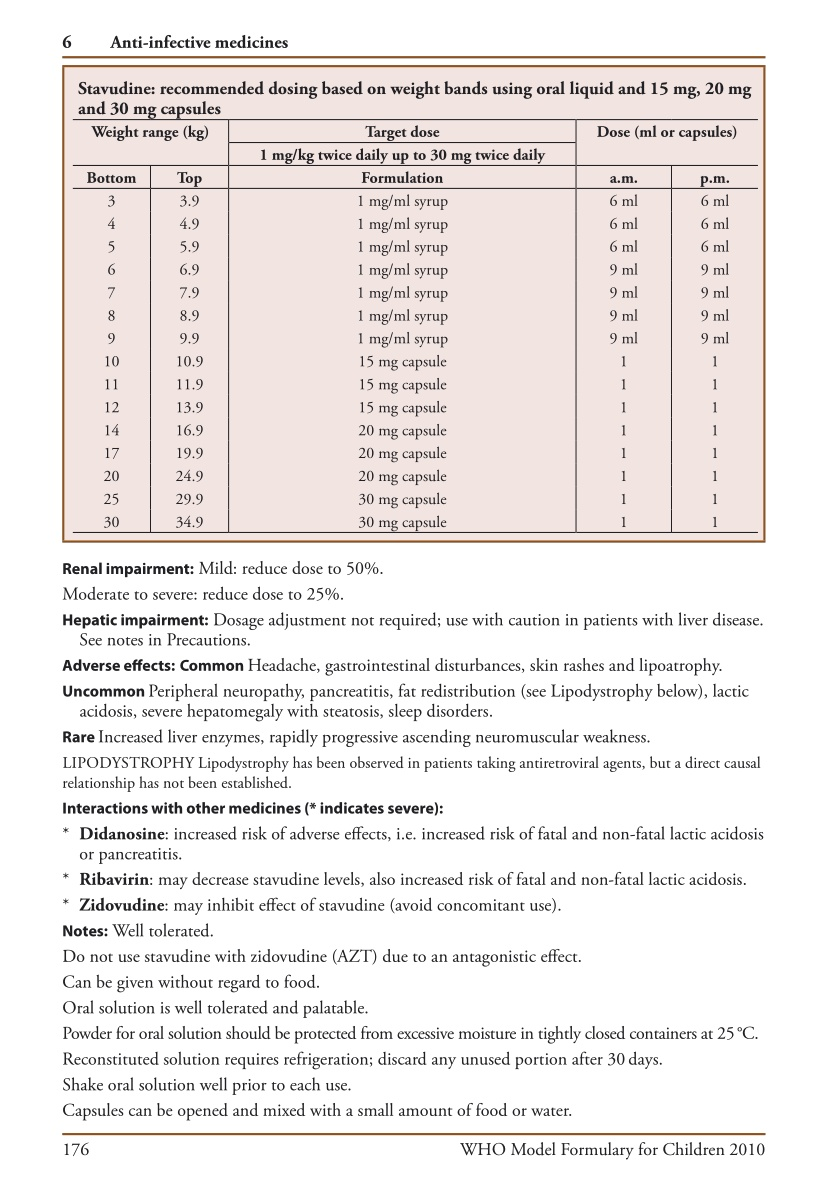partial_lined_merged_cells: (61, 65, 766, 544)
